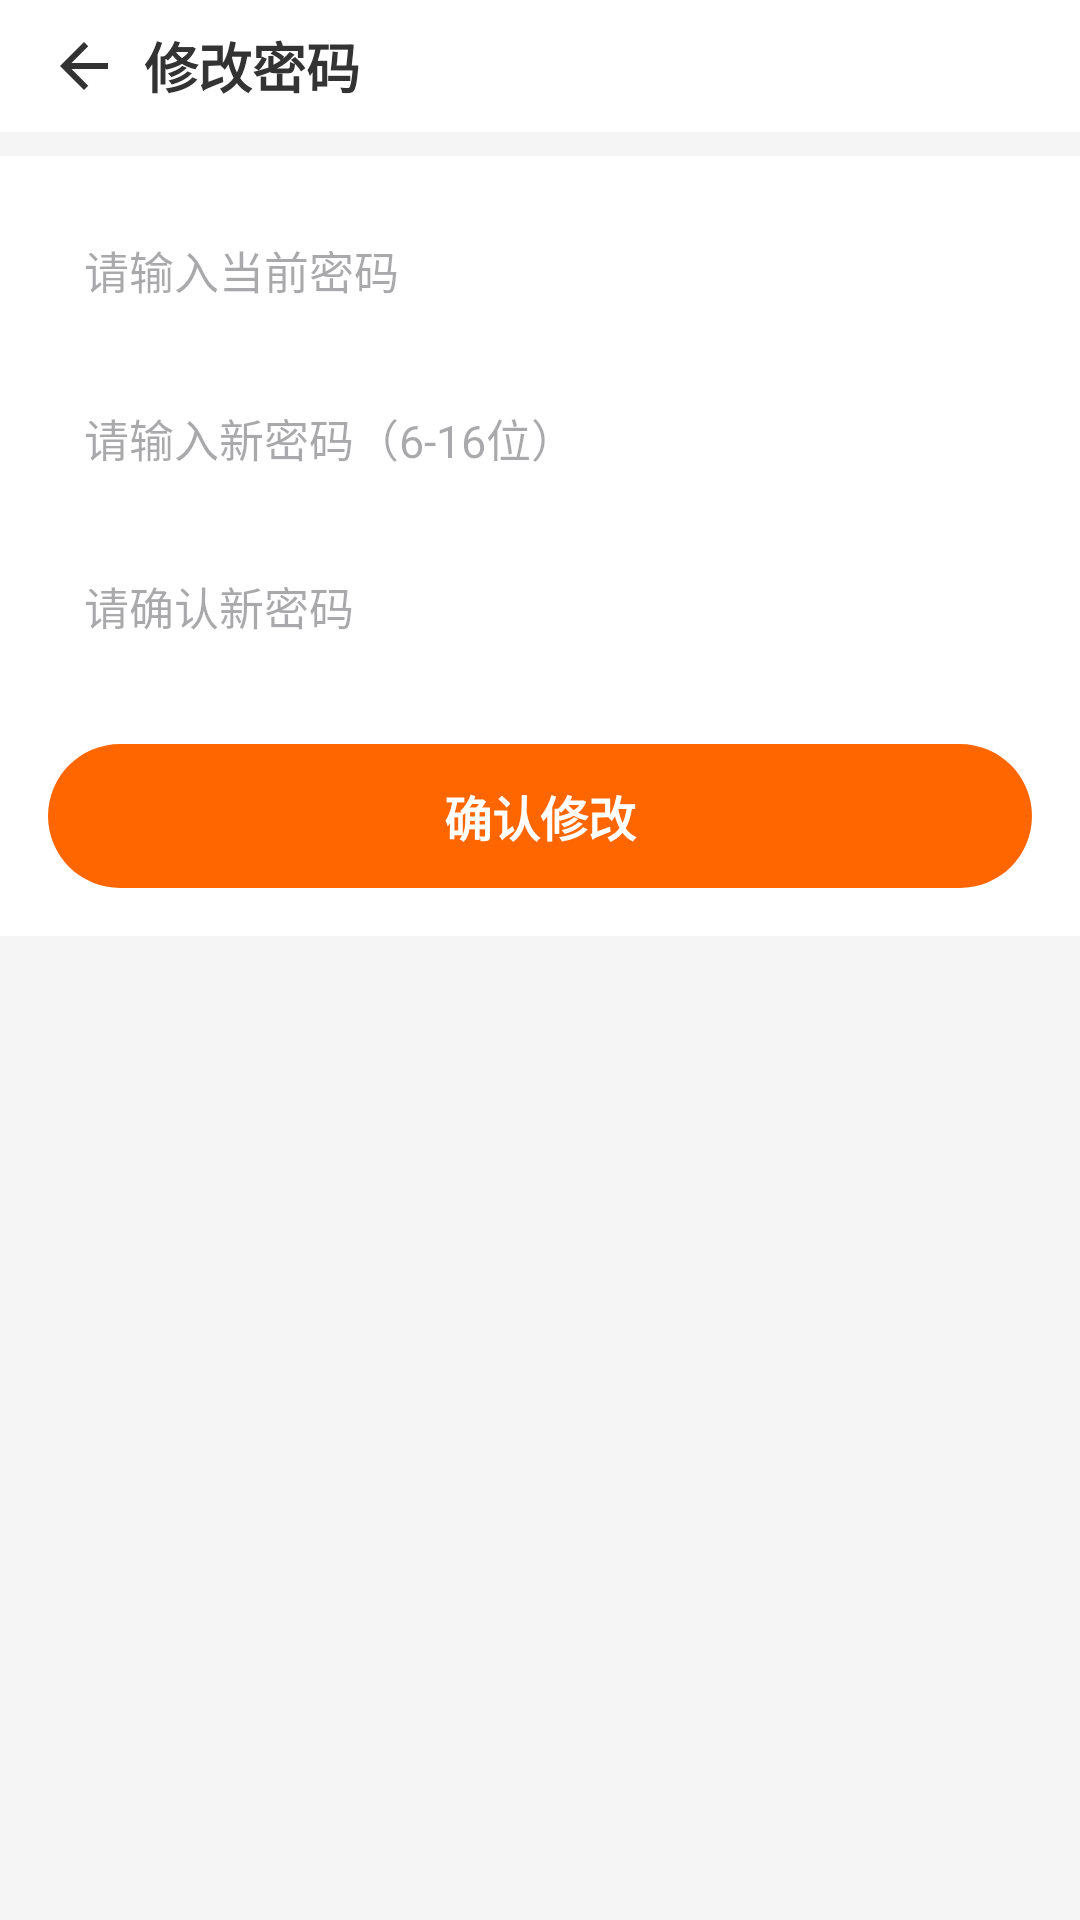

Icon bounding boxes for this 1080w x 1920h phone screenshot, format [x1=x1, y1=y1, x2=x2, y2=y2]:
arrow back: [x1=60, y1=42, x2=108, y2=90]
